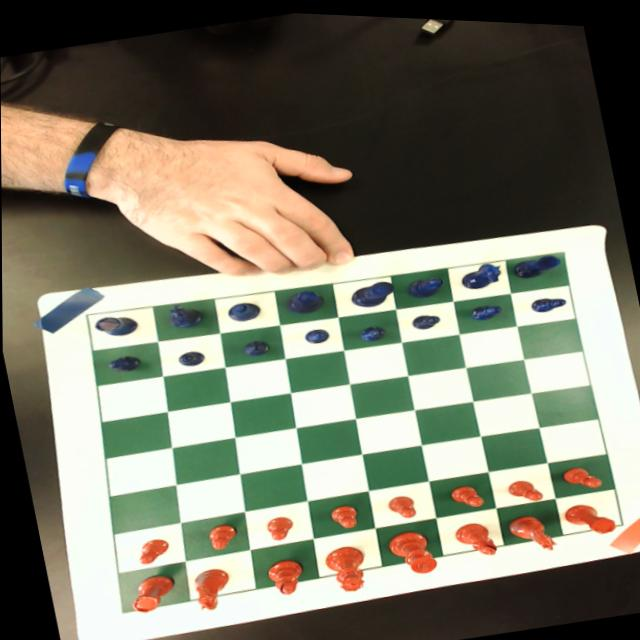B: (406, 269, 445, 296), (225, 296, 263, 322)
K: (347, 273, 399, 308)
N: (458, 253, 507, 287), (165, 297, 204, 329)
P: (529, 287, 569, 310), (105, 351, 142, 374), (469, 296, 503, 318), (410, 306, 443, 328), (175, 345, 206, 366), (240, 334, 270, 355), (358, 318, 387, 339), (303, 323, 331, 343)
Q: (284, 283, 325, 314)
R: (513, 244, 564, 277), (94, 309, 140, 338)
b: (260, 552, 308, 596), (453, 513, 498, 556)
k: (382, 523, 438, 575)
n: (504, 503, 559, 552), (185, 561, 237, 611)
p: (560, 455, 604, 488), (134, 534, 173, 564), (448, 477, 486, 507), (505, 471, 544, 500), (204, 519, 240, 550), (327, 498, 360, 528), (264, 509, 297, 539), (385, 488, 417, 518)
q: (320, 538, 370, 592)
r: (124, 568, 180, 615), (562, 492, 617, 535)
